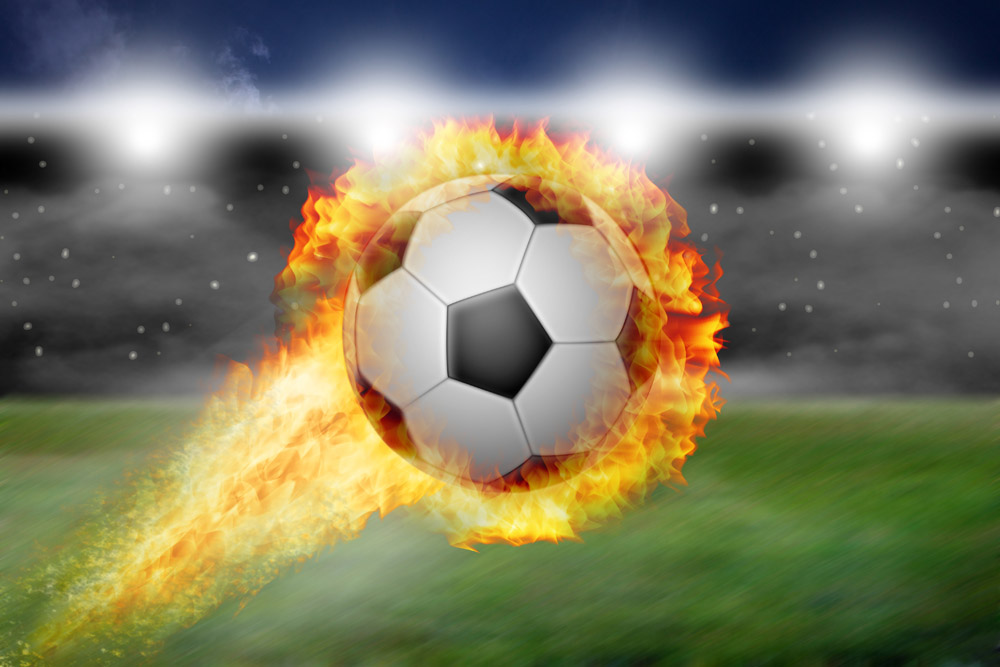ball: (333, 175, 678, 495)
